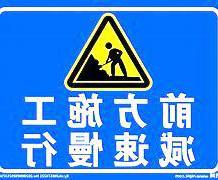sign: (2, 3, 215, 176)
